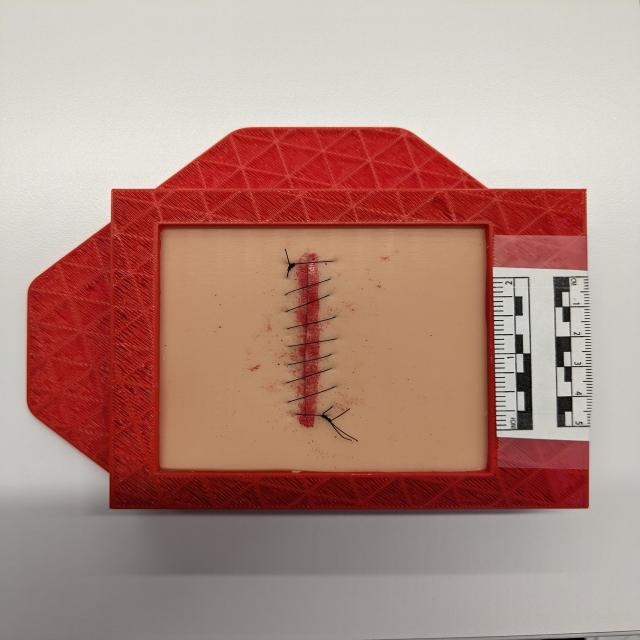onecm: (50, 333, 71, 363)
ruler: (46, 198, 147, 374)
